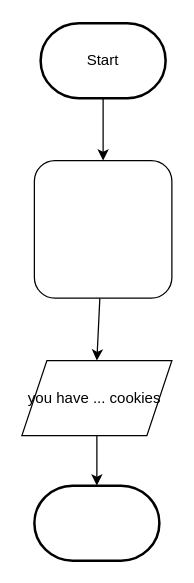
Image size: 194x583. Some labels were removed from this diagram. Each missing label, with the centre of its shape:
"+1 cookies" belongs at point 102,228.
"Stop" belongs at point 96,522.
